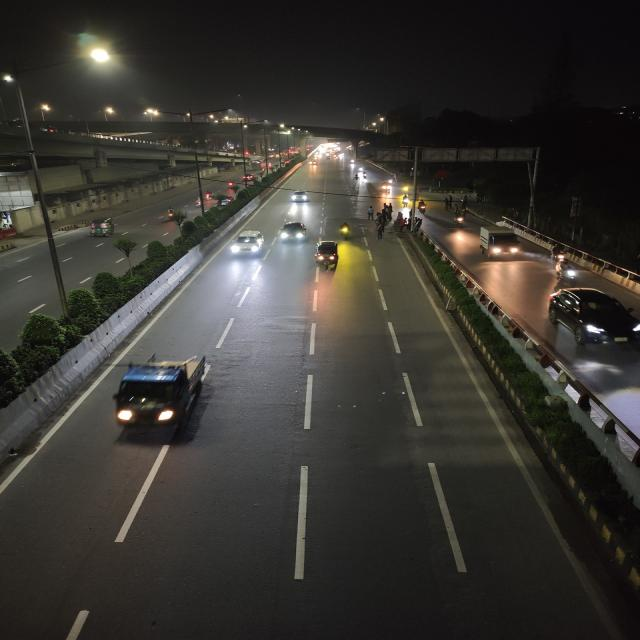car: (542, 285, 640, 352), (227, 226, 267, 262), (277, 218, 310, 246), (289, 189, 311, 204), (240, 172, 256, 184)
cng: (313, 239, 342, 272), (85, 215, 118, 239)
motorcycle: (549, 258, 583, 286), (545, 244, 573, 274), (158, 206, 184, 224), (452, 210, 469, 228), (337, 220, 352, 240), (416, 200, 428, 213)
pedestrian: (374, 221, 386, 240), (365, 207, 376, 221), (382, 202, 393, 214)
pickup_van: (98, 348, 219, 448)
truck: (475, 224, 524, 262)
